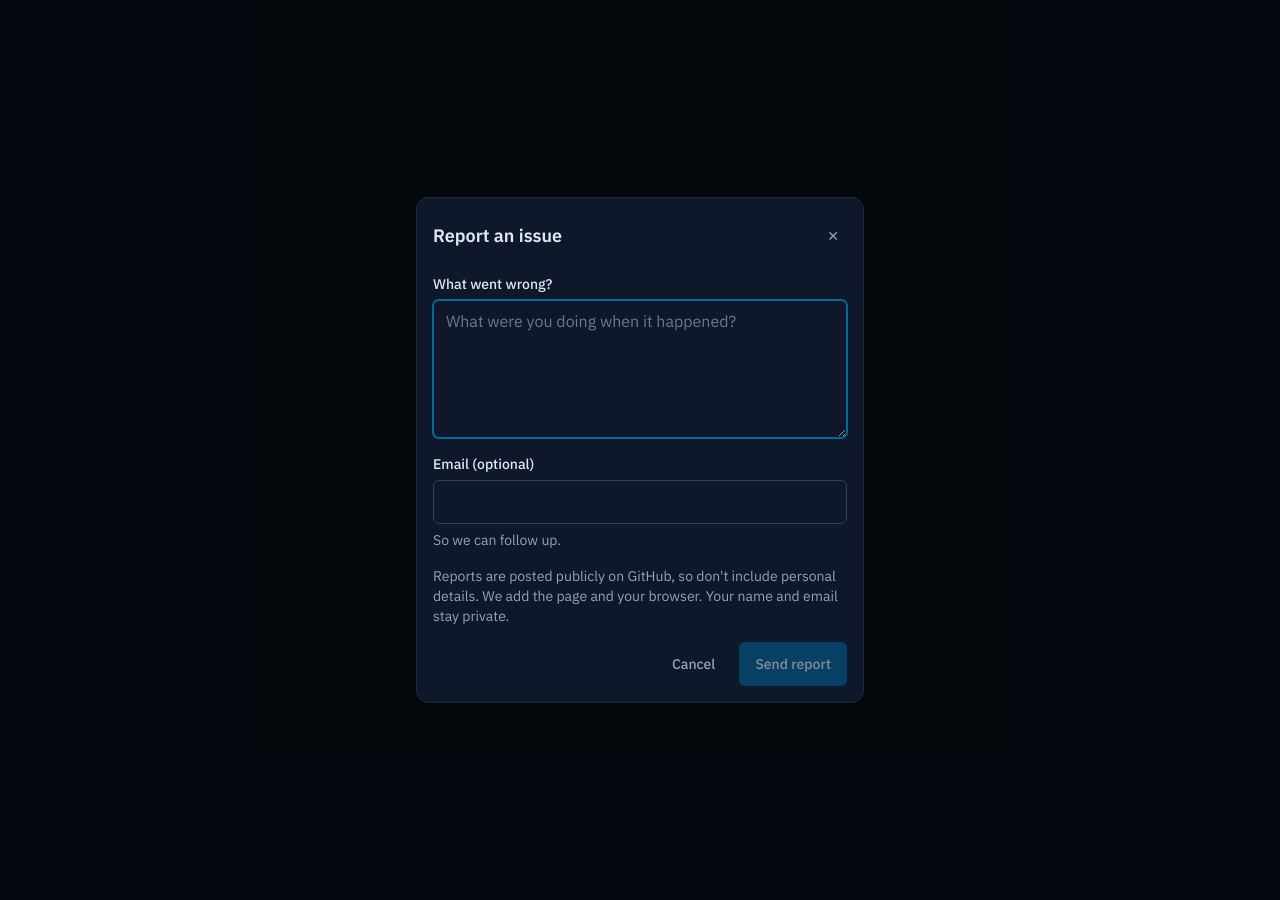
Test: FeedbackWidget submit › does not say "sent" when the server answers OK but filed no issue
Type "The map never loads on the plan page." into the text box labelled "What went wrong?". click: (640, 369)
box: x1=433 y1=300 x2=847 y2=438
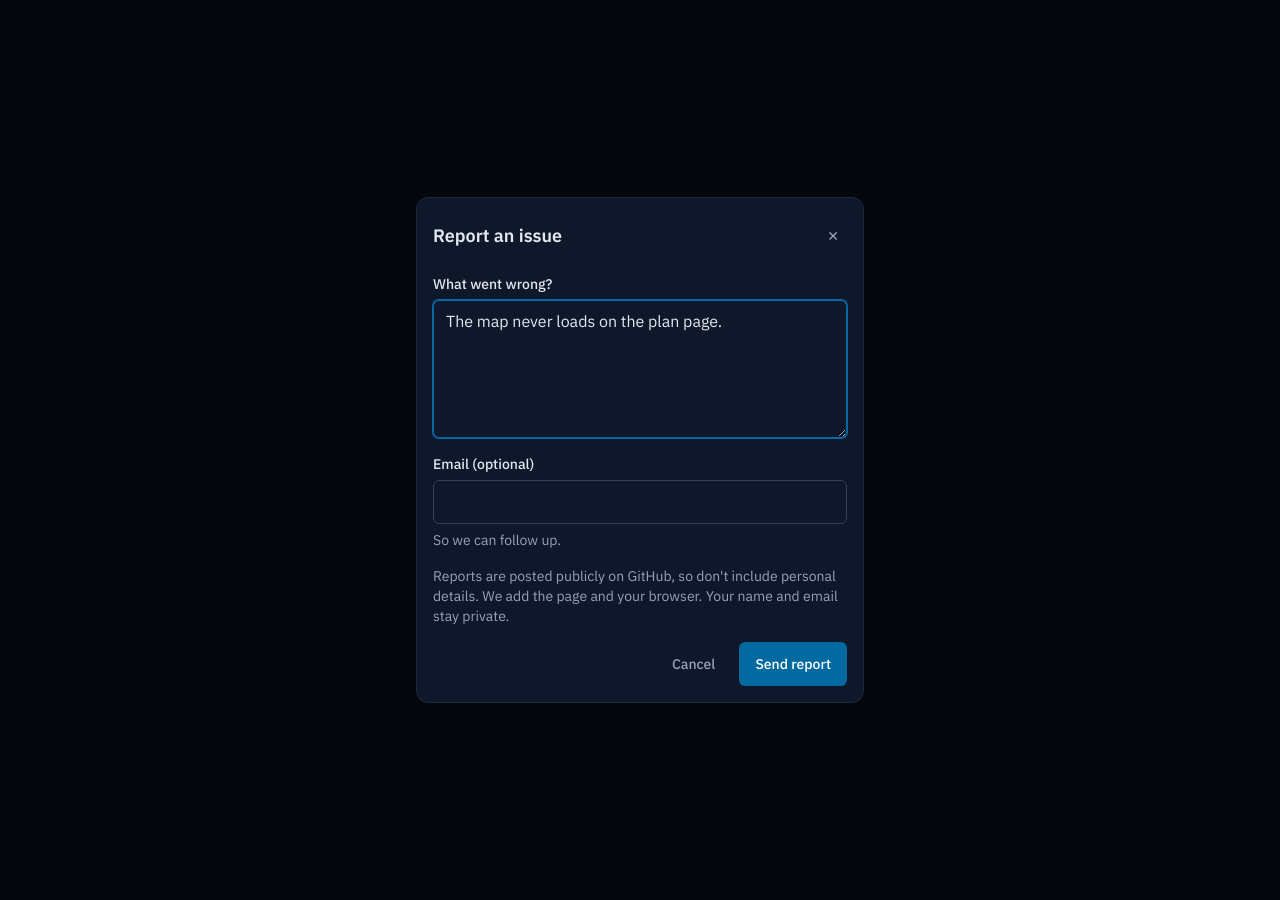
Click the button "Send report". click: (793, 664)
box: x1=739 y1=642 x2=847 y2=686
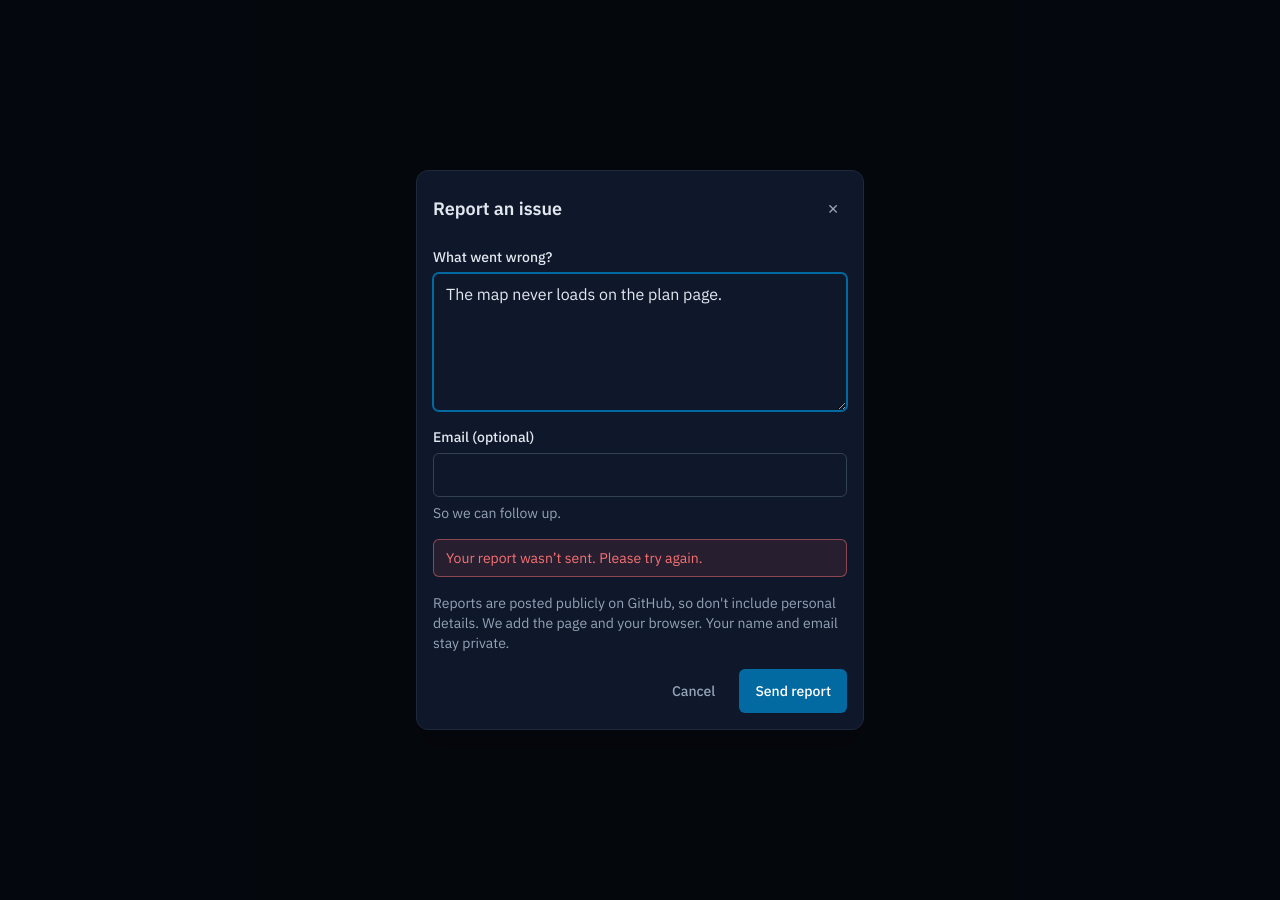
Check: the message "Your report wasn’t sent. Please try again." is shown, box x1=433 y1=539 x2=847 y2=577
